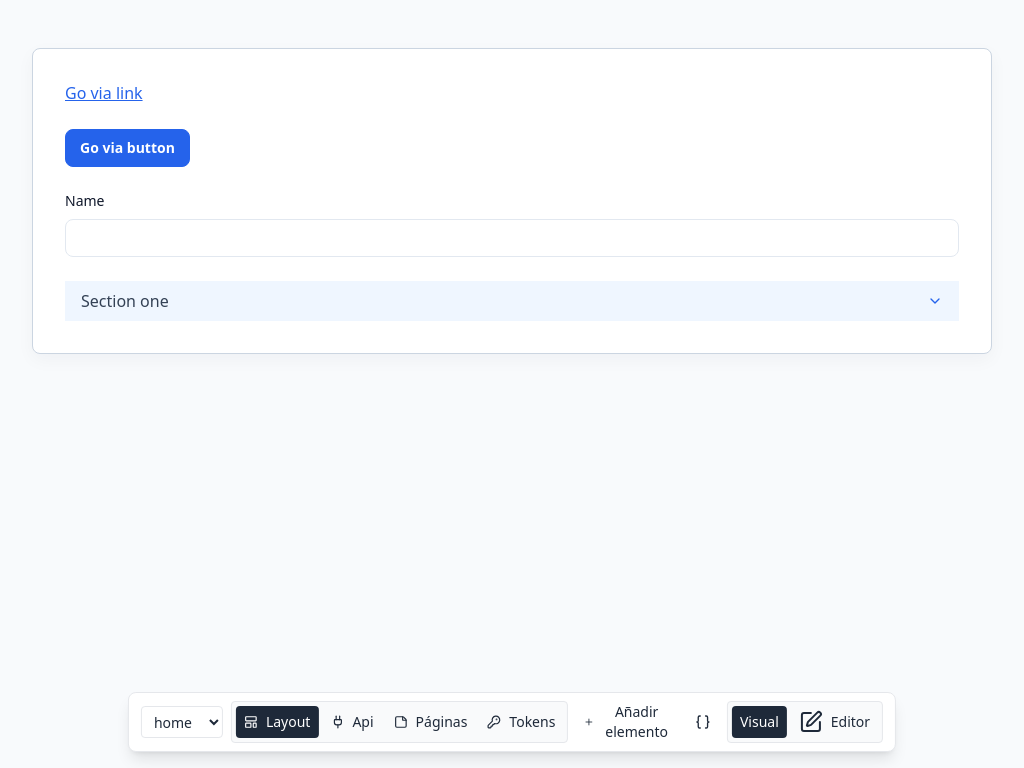
it: DevRuntime / real navigation in visual mode (spec FR-baseline) › a link with props.action.navigateTo navigates normally: hash changes and the target page renders
Click the link "Go via link": (104, 93) x1=65 y1=81 x2=143 y2=105
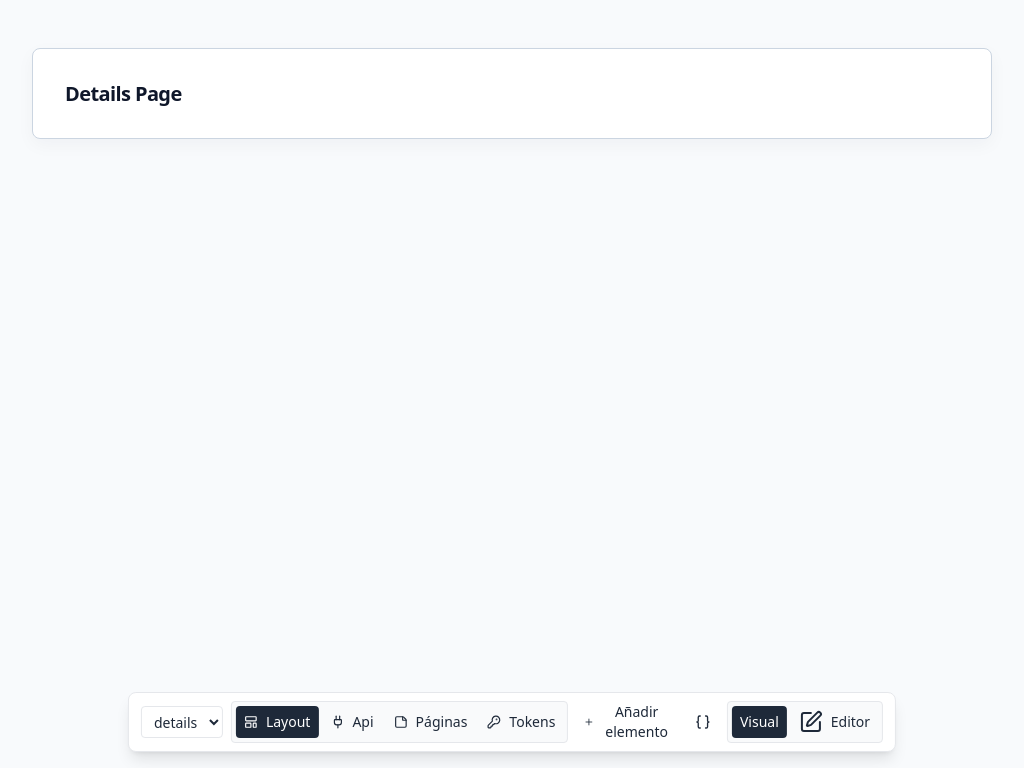
Check: the heading "Details Page" is shown, box x1=65 y1=80 x2=182 y2=107
